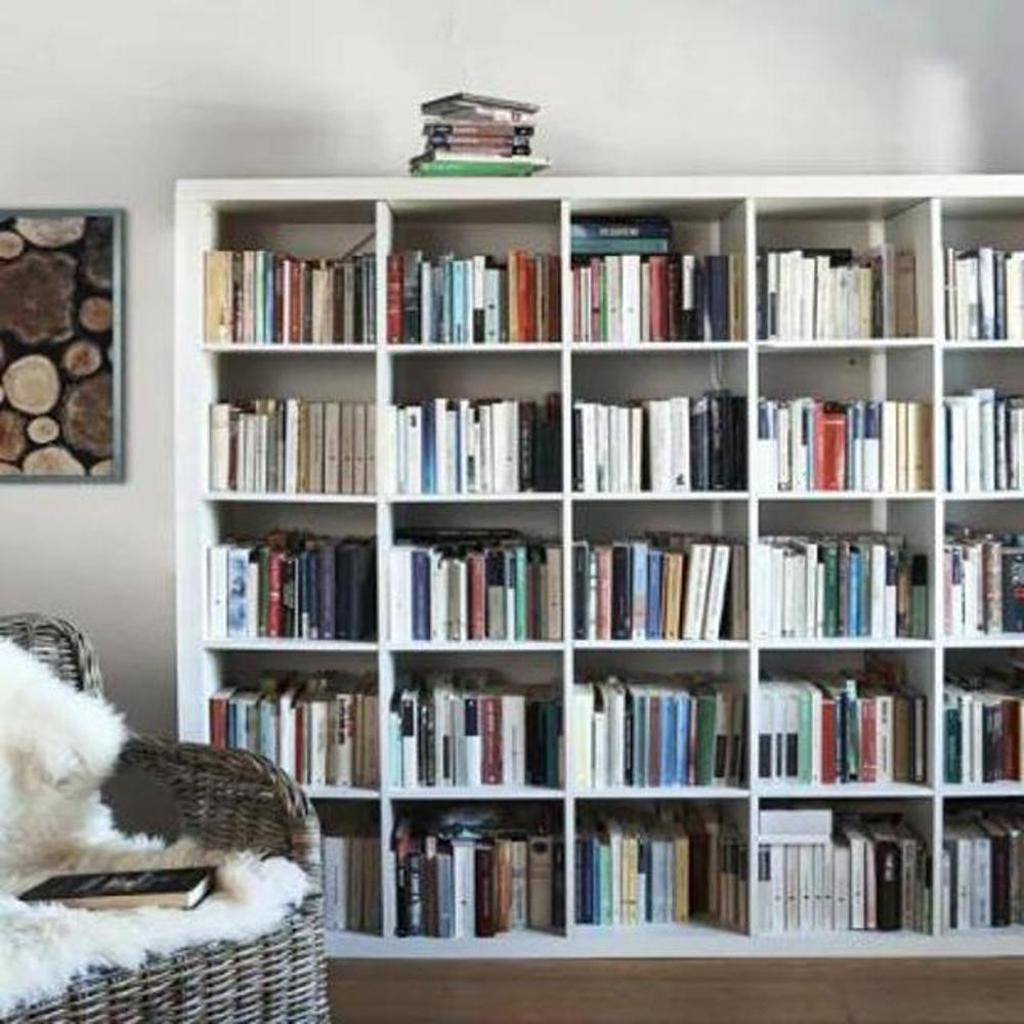lamp: (167, 171, 1022, 964)
